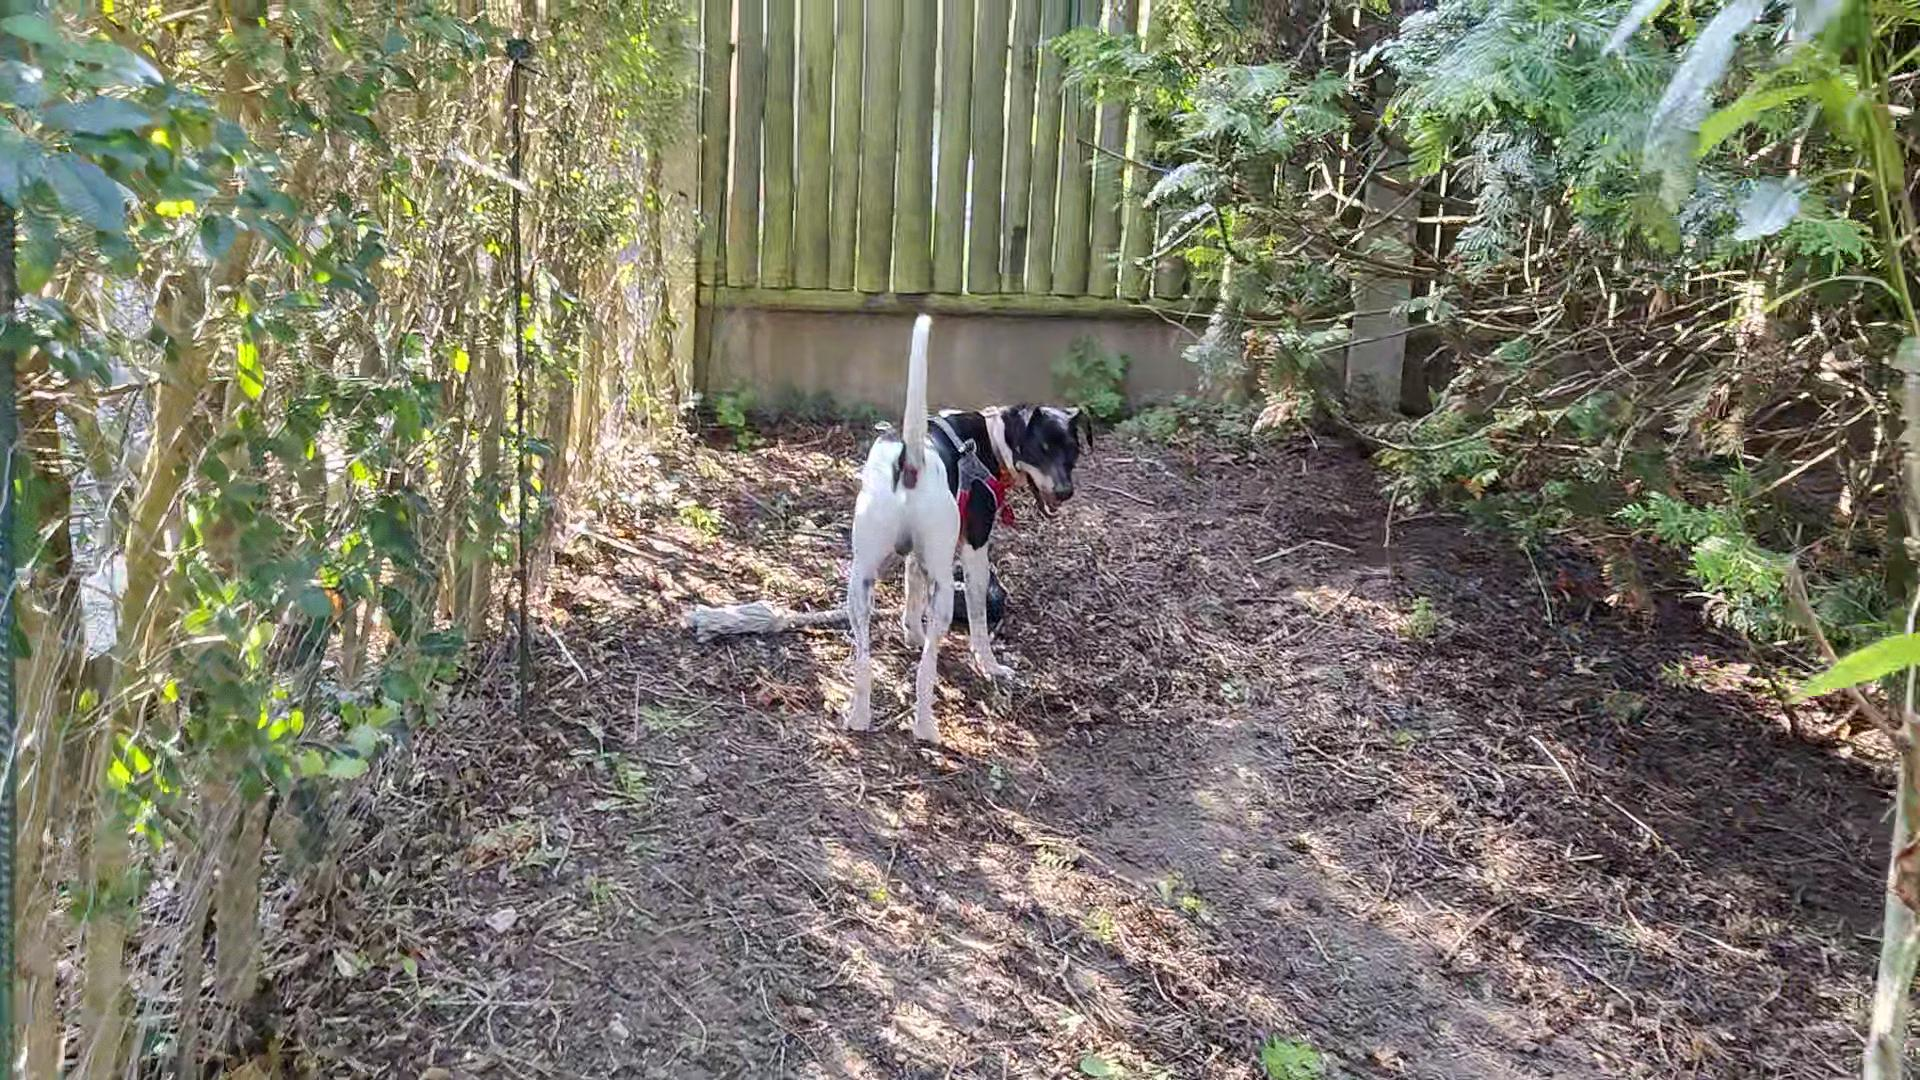Dog: (837, 299, 1097, 746)
